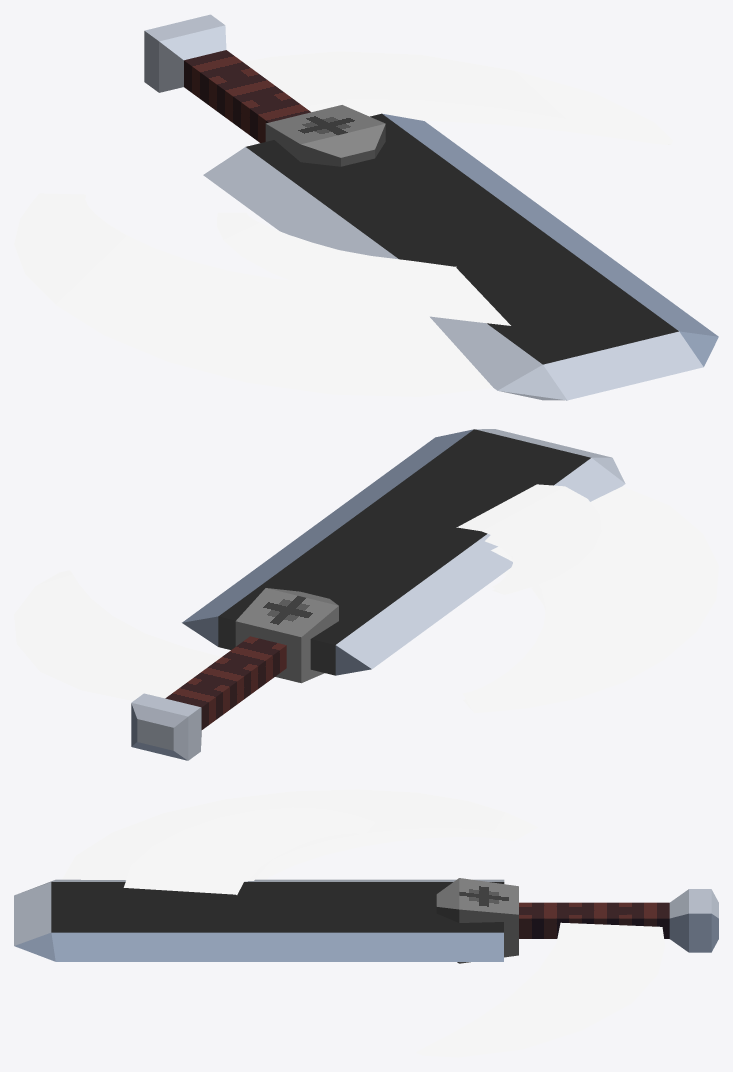
Rendered from SmearSword.gltf.
3 renders of one model, top to bottom at view 1: azimuth 30°, elevation 25°; view 2: azimuth 150°, elevation 25°; view 3: azimuth 270°, elevation 25°, orthographic. The views are drawn at different scales.
Parts seen in each view (by area): view 1: HandleSmear1, Circle, HandleSmear, BladeSmear2; view 2: HandleSmear1, Circle, HandleSmear, BladeSmear2; view 3: HandleSmear1, Circle, HandleSmear, BladeSmear2.
Part boxes in pixels (x1,y1,x2,y2): HandleSmear1: (144,14,718,400); Circle: (14,193,492,396); HandleSmear: (243,51,672,144); BladeSmear2: (217,212,510,325); HandleSmear1: (131,429,625,760); Circle: (462,486,718,713); HandleSmear: (14,570,221,700); BladeSmear2: (456,484,601,594); HandleSmear1: (14,878,718,963); Circle: (62,789,537,880); HandleSmear: (416,922,664,1057); BladeSmear2: (123,807,374,894).
Bounding box in the file's own units: 5.62 × 0.6551 × 6.79.
Materials: 3 (1 with a texture image).
